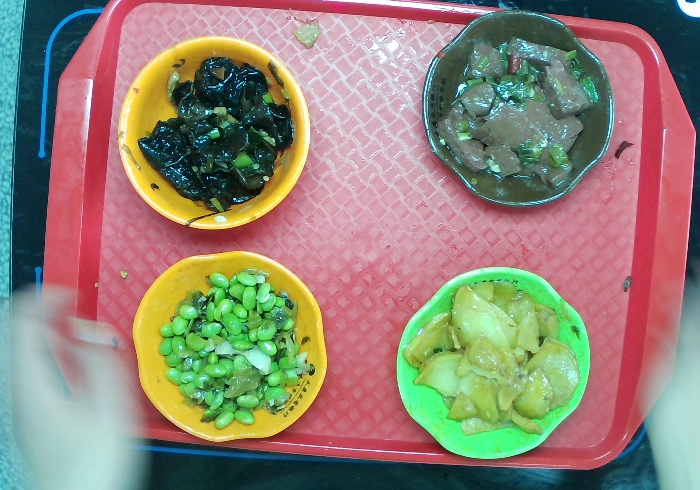YKMZ-Ju_Se_Ao_Bian_Wan: (127, 249, 330, 440)
YKMZ-Ju_Se_Yuan_Wan: (116, 42, 310, 236)
YKMZ-Ka_Fei_Ao_Bian_Wan: (414, 10, 618, 212)
YKMZ-Lv_Se_Ao_Bian_Wan: (395, 265, 586, 458)
